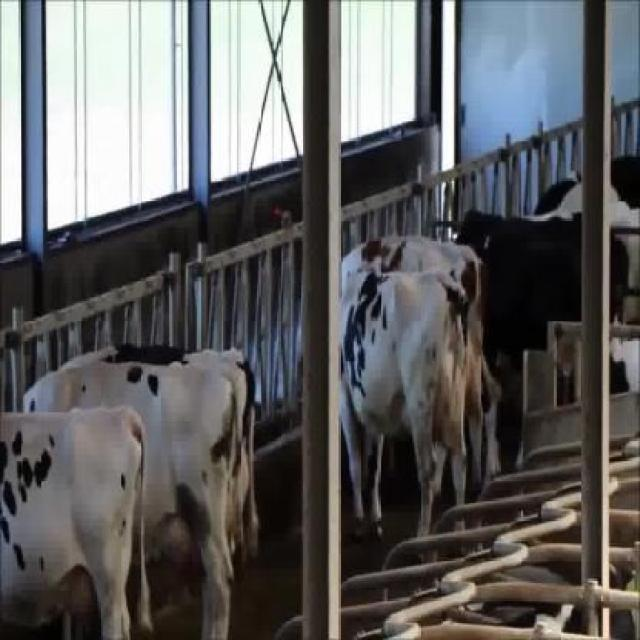Cow: (24, 358, 244, 638), (338, 269, 469, 563), (1, 402, 156, 638)
